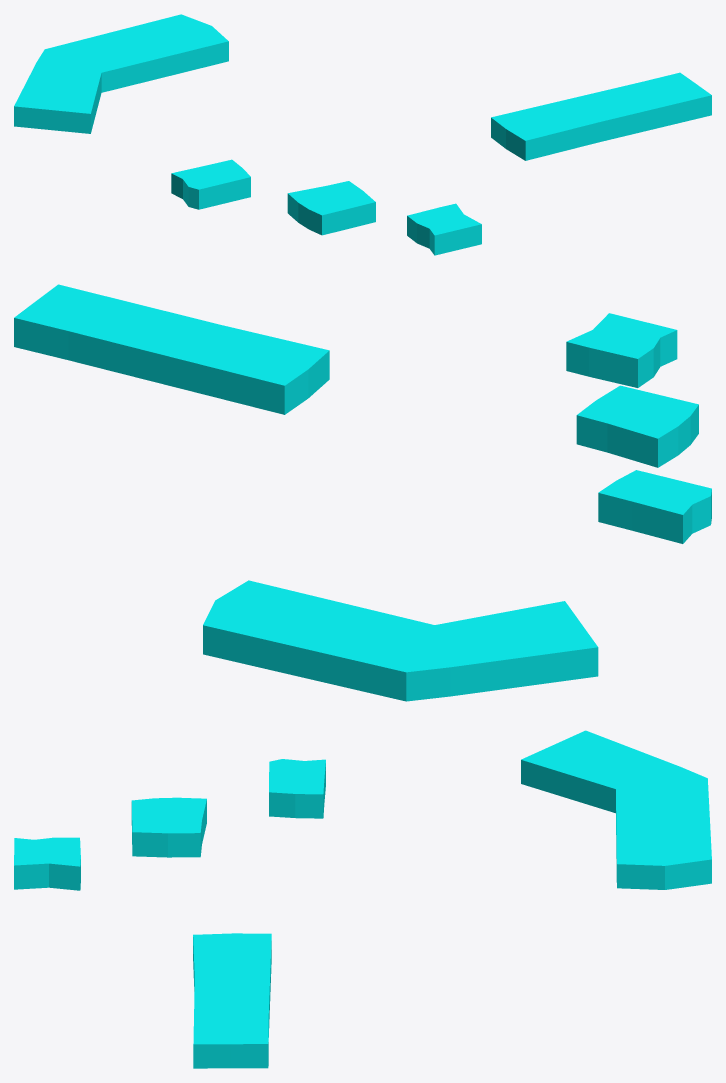
File: SpectralPathsLVL2.gltf
3 renders of one model, top to bottom at view 1: azimuth 30°, elevation 25°; view 2: azimuth 150°, elevation 25°; view 3: azimuth 270°, elevation 25°, orthographic. The views are drawn at different scales.
Visible parts, largest first — view 1: PolyShape (6), PolyShape (2), PolyShape (4), PolyShape (5), PolyShape (3); view 2: PolyShape (6), PolyShape (2), PolyShape (4), PolyShape (5), PolyShape (3); view 3: PolyShape (6), PolyShape (2), PolyShape (4), PolyShape (3), PolyShape (5).
Part boxes in pixels (x1,y1,x2,y2): PolyShape (6): [14, 14, 228, 133]; PolyShape (2): [491, 72, 711, 160]; PolyShape (4): [287, 181, 375, 235]; PolyShape (5): [171, 159, 250, 209]; PolyShape (3): [407, 203, 481, 255]; PolyShape (6): [203, 580, 598, 701]; PolyShape (2): [14, 284, 329, 414]; PolyShape (4): [576, 385, 698, 467]; PolyShape (5): [598, 470, 711, 543]; PolyShape (3): [566, 313, 677, 387]; PolyShape (6): [521, 730, 711, 889]; PolyShape (2): [193, 933, 271, 1068]; PolyShape (4): [131, 797, 206, 857]; PolyShape (3): [14, 837, 80, 890]; PolyShape (5): [269, 759, 325, 818].
Bounding box in the file's own units: 21.53 × 0.7731 × 20.23.
